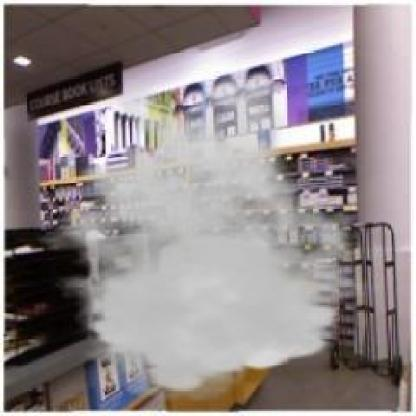Smoke: (20, 67, 373, 403)
